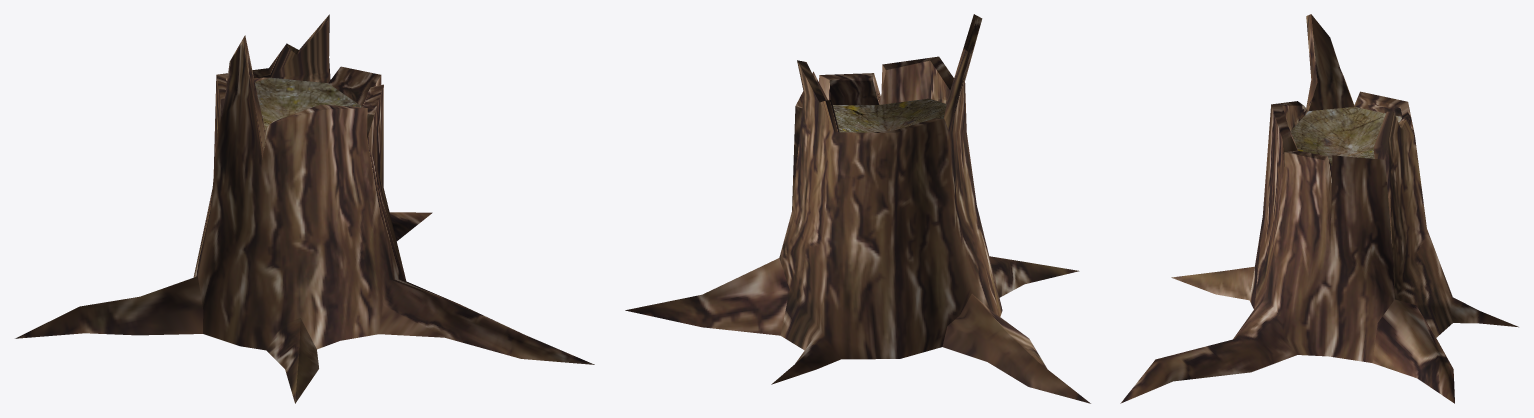
The model's file is tree_trunk_2.obj.
3 renders of one model, left to right at view 1: azimuth 30°, elevation 25°; view 2: azimuth 150°, elevation 25°; view 3: azimuth 270°, elevation 25°, orthographic. The views are drawn at different scales.
Parts seen in each view (by area): view 1: Trees_pack; view 2: Trees_pack; view 3: Trees_pack.
Part boxes in pixels (x1,y1,x2,y2): Trees_pack: [15, 14, 594, 403]; Trees_pack: [625, 14, 1090, 403]; Trees_pack: [1120, 14, 1518, 403].
Bounding box in the file's own units: 2.06 × 1.39 × 1.79.
